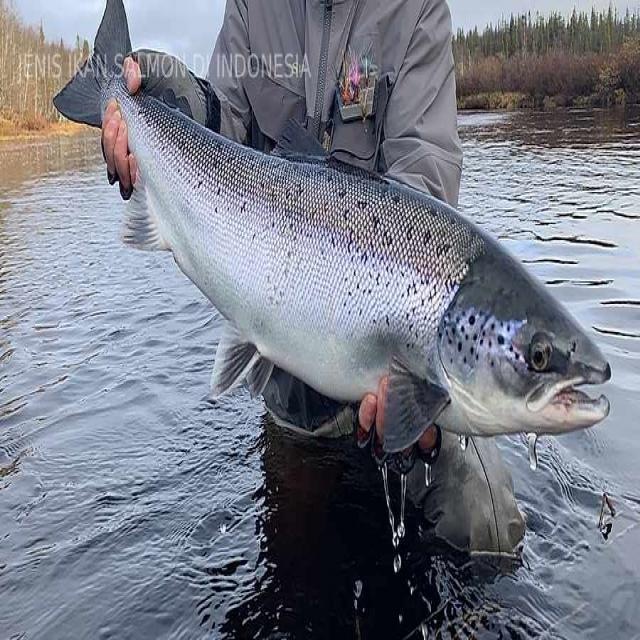salmon: (54, 4, 612, 481)
